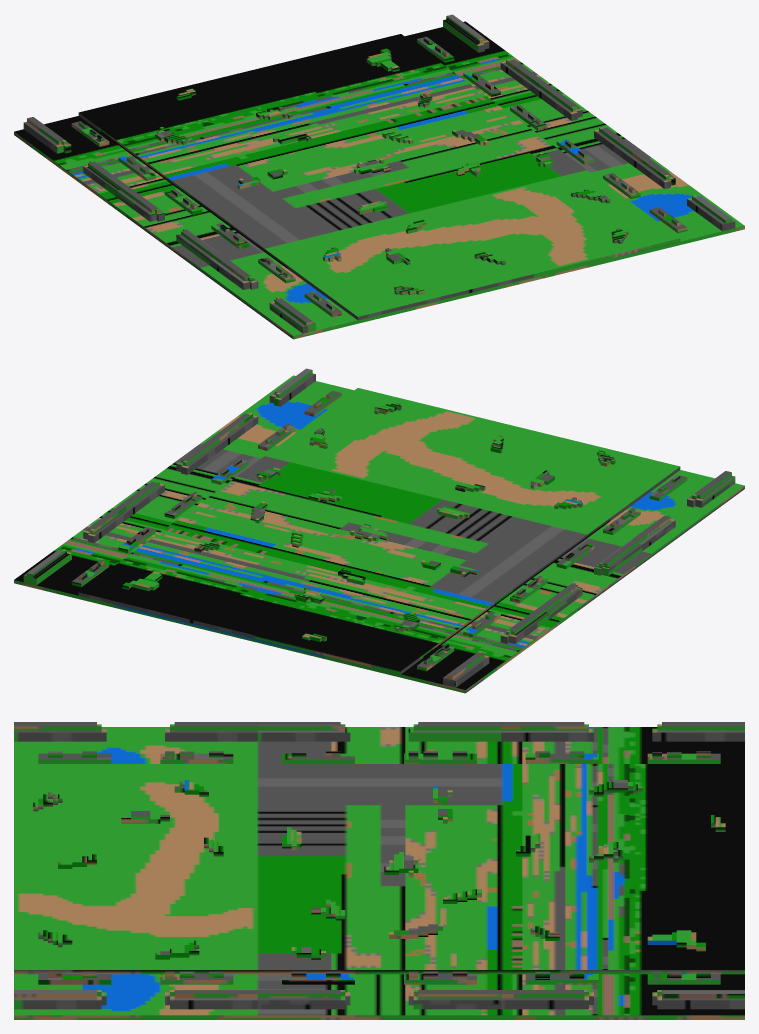
File: PArk (1).fbx
3 renders of one model, top to bottom at view 1: azimuth 30°, elevation 25°; view 2: azimuth 150°, elevation 25°; view 3: azimuth 270°, elevation 25°, orthographic. The views are drawn at different scales.
Visible parts, largest first — view 1: Compound, Park2_part, Park3_part, Park1_1_part, Matrix_14_part_1, Matrix_14_part_7, Matrix_14_part_5, Matrix_14_part_3, Matrix_14_part_11, Matrix_14_part_9, Matrix_14_part_8, Matrix_14_part_10 (+4 smaller); view 2: Compound, Park2_part, Park3_part, Matrix_14_part_5, Matrix_14_part_11, Park1_1_part, Matrix_14_part_1, Matrix_14_part_3, Matrix_14_part_7, Matrix_14_part_9, Matrix_14_part_6, Matrix_14_part_8 (+4 smaller); view 3: Compound, Matrix_14_part_3, Matrix_14_part_9, Matrix_14_part_5, Matrix_14_part_1, Matrix_14_part_7, Matrix_14_part_11, Park2_part, Park3_part, Park1_1_part, Matrix_14_part_4, Matrix_14_part (+4 smaller).
Boxes of the visible parts, box(x1,y1,x2,y2) form: Compound: box(14, 21, 744, 339); Park2_part: box(237, 129, 552, 214); Park3_part: box(155, 48, 432, 144); Park1_1_part: box(323, 188, 628, 295); Matrix_14_part_1: box(629, 151, 735, 231); Matrix_14_part_7: box(210, 253, 315, 333); Matrix_14_part_5: box(443, 14, 545, 94); Matrix_14_part_3: box(536, 82, 638, 162); Matrix_14_part_11: box(23, 117, 125, 196); Matrix_14_part_9: box(116, 185, 218, 265); Matrix_14_part_8: box(164, 189, 248, 249); Matrix_14_part_10: box(71, 121, 155, 180); Compound: box(14, 375, 744, 693); Park2_part: box(250, 467, 478, 577); Park3_part: box(122, 542, 419, 641); Matrix_14_part_5: box(23, 505, 129, 585); Matrix_14_part_11: box(443, 607, 548, 687); Park1_1_part: box(309, 403, 615, 509); Matrix_14_part_1: box(213, 368, 315, 448); Matrix_14_part_3: box(120, 436, 222, 516); Matrix_14_part_7: box(633, 471, 735, 550); Matrix_14_part_9: box(540, 539, 642, 619); Matrix_14_part_6: box(603, 475, 687, 534); Matrix_14_part_8: box(510, 543, 594, 603); Compound: box(14, 727, 744, 1019); Matrix_14_part_3: box(257, 990, 501, 1009); Matrix_14_part_9: box(257, 722, 501, 741); Matrix_14_part_5: box(501, 990, 744, 1009); Matrix_14_part_1: box(14, 990, 257, 1009); Matrix_14_part_7: box(14, 722, 257, 741); Matrix_14_part_11: box(501, 722, 744, 741); Park2_part: box(282, 786, 481, 959); Park3_part: box(516, 780, 725, 951); Park1_1_part: box(33, 780, 223, 959); Matrix_14_part_4: box(525, 971, 720, 984); Matrix_14_part: box(38, 971, 233, 984).
Bounding box in the file's own units: 140 × 4 × 150.
